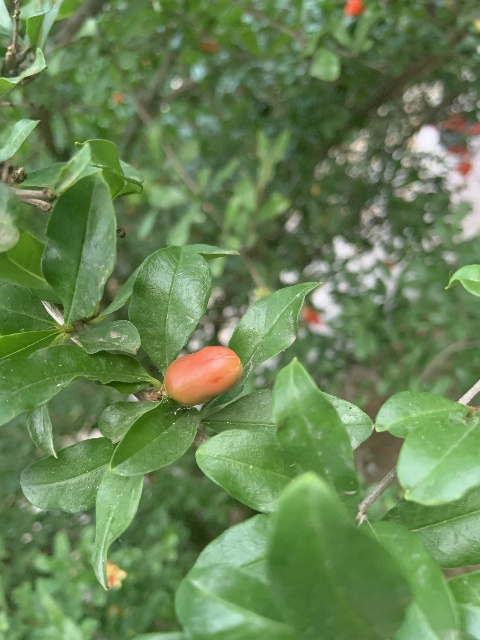bud: (164, 346, 242, 406)
